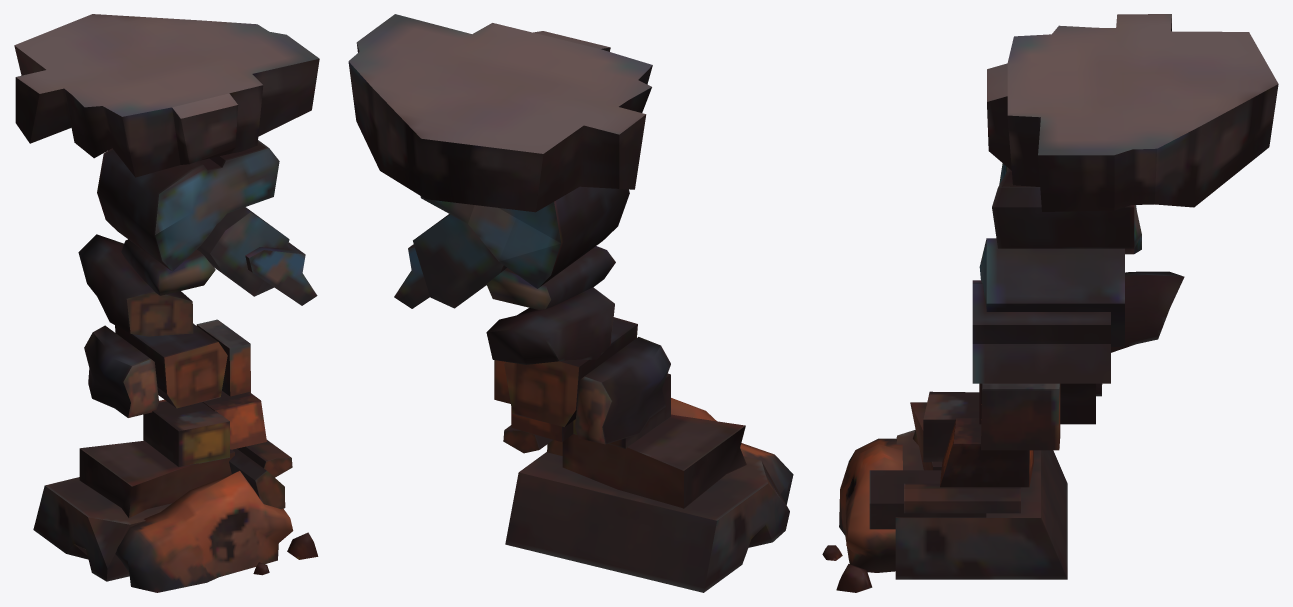
The model's file is huoguanshizhu01.FBX.
The picture shows the model from 3 angles, left to right: view 1: azimuth 30°, elevation 25°; view 2: azimuth 150°, elevation 25°; view 3: azimuth 270°, elevation 25°; orthographic projection. The views are drawn at different scales.
Parts seen in each view (by area): view 1: huoguanshizhu1; view 2: huoguanshizhu1; view 3: huoguanshizhu1.
Boxes of the visible parts, x1,y1,x2,y2 form: huoguanshizhu1: (14,14,319,592); huoguanshizhu1: (348,14,793,592); huoguanshizhu1: (822,14,1278,592).
Bounding box in the file's own units: 997 × 1227 × 1440.
